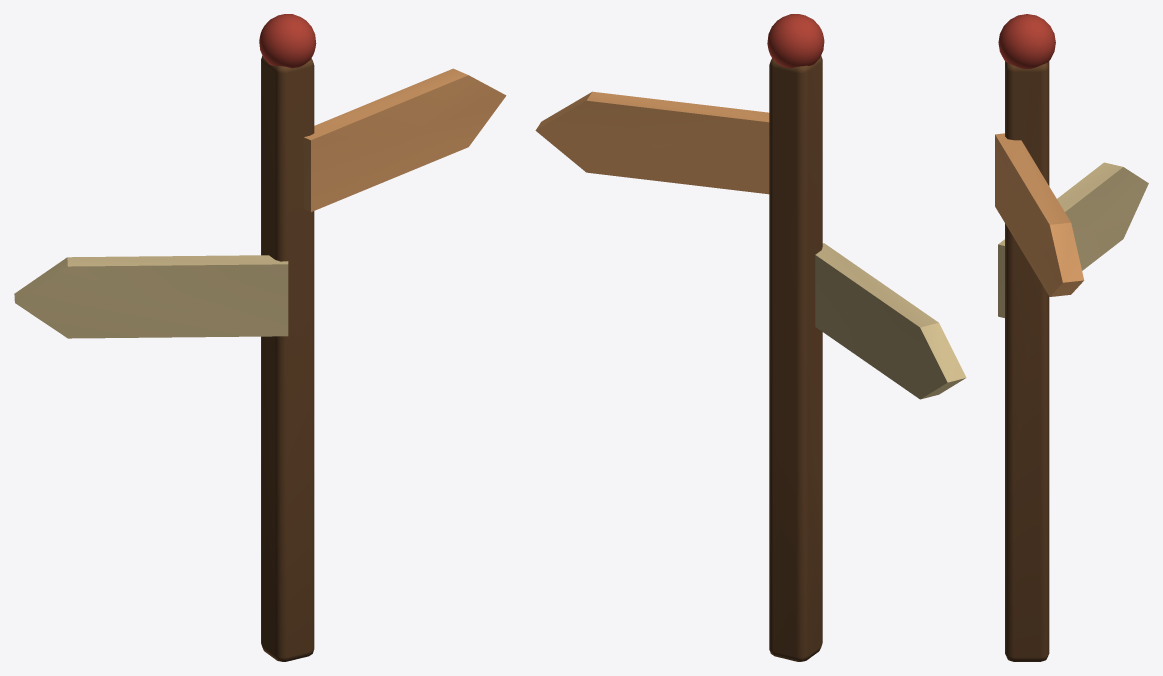
File: signpost_bonfire.glb
3 views of the same model, side by side, from view 1: azimuth 30°, elevation 25°; view 2: azimuth 150°, elevation 25°; view 3: azimuth 270°, elevation 25° (orthographic).
Parts seen in each view (by area): view 1: signpost_bonfire_main; view 2: signpost_bonfire_main; view 3: signpost_bonfire_main.
Part boxes in pixels (x1,y1,x2,y2): signpost_bonfire_main: (14,14,506,661); signpost_bonfire_main: (535,14,966,661); signpost_bonfire_main: (995,14,1148,661).
Bounding box in the file's own units: 1.2 × 1.6 × 0.348.
